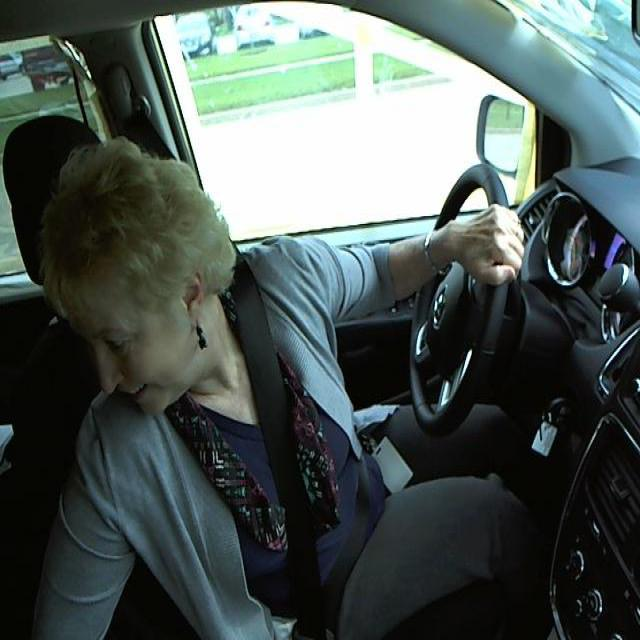seatbelt: (234, 306, 374, 622)
